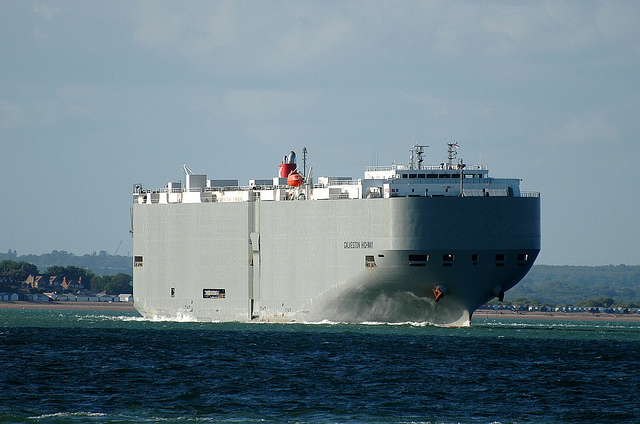PCC: (133, 150, 546, 330)
